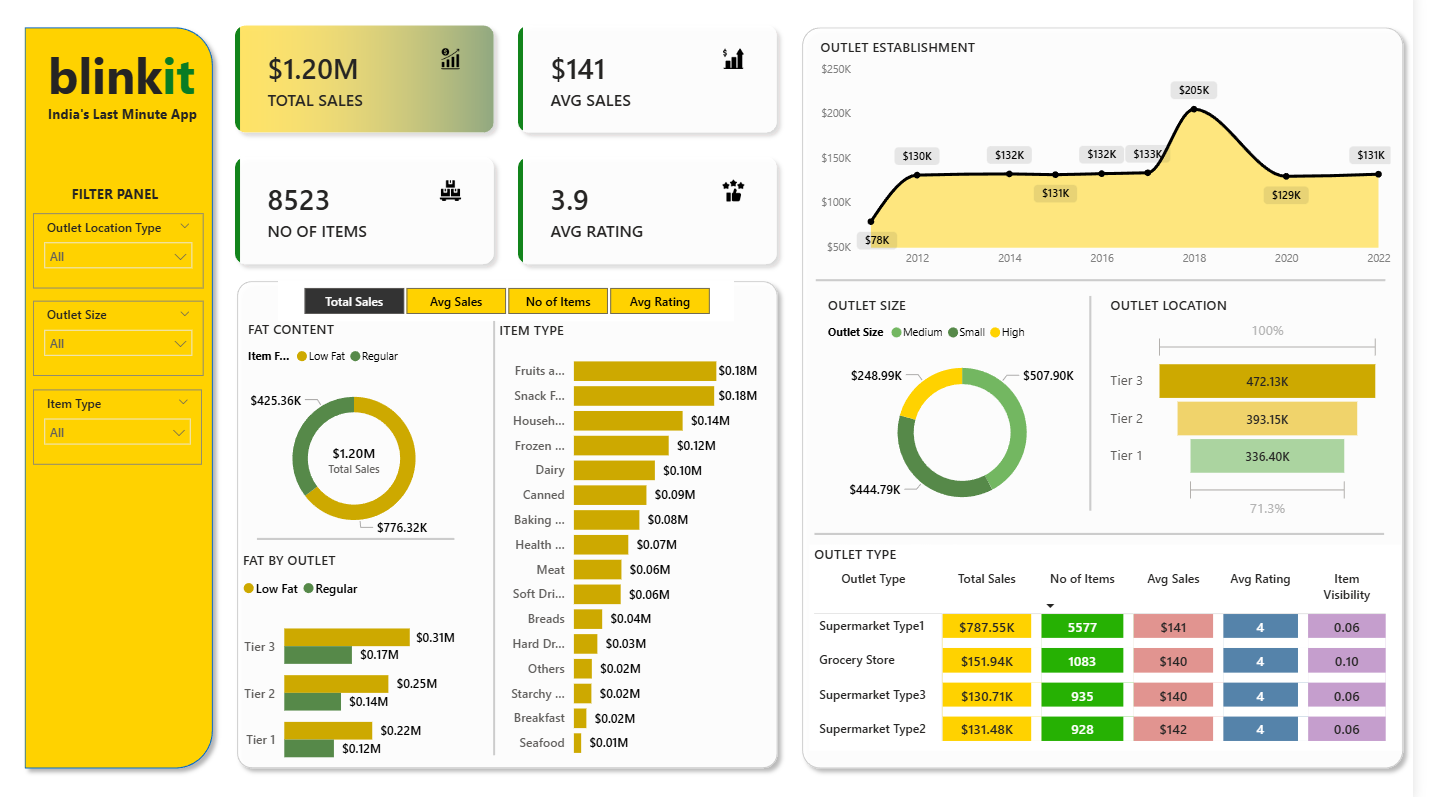

The dashboard page shown, as its layout file describes it:
{"tool":"powerbi","page":{"name":"Page 1","canvas":[1400,800],"ordinal":0},"visuals":[{"type":"shape","box":[17.1,25.7,204.3,751.4],"z":0},{"type":"textbox","box":[45,45,161.7,88.3],"z":1000},{"type":"textbox","box":[45,106.7,160,53.3],"z":2000},{"type":"cardVisual","fields":{"Data":["BlinkIT Grocery Data.Total Sales","BlinkIT Grocery Data.Avg Sales","BlinkIT Grocery Data.No of Items","BlinkIT Grocery Data.Avg Rating"]},"box":[217.1,15.7,570,270],"z":3000},{"type":"shape","box":[227.1,277.1,552.9,500],"z":4000},{"type":"donutChart","title":"FAT CONTENT","fields":{"Y":["BlinkIT Grocery Data.Total Sales"],"Category":["BlinkIT Grocery Data.Item Fat Content"]},"box":[242.9,324.3,220,230],"z":5000},{"type":"slicer","fields":{"Values":["Metrics.Metrics"]},"box":[277.1,285.7,451.4,40],"z":6000},{"type":"cardVisual","fields":{"Data":["BlinkIT Grocery Data.Total Sales"]},"box":[288.6,428.6,128.6,70],"z":7000},{"type":"clusteredBarChart","title":"FAT BY OUTLET","fields":{"Y":["BlinkIT Grocery Data.Total Sales"],"Category":["BlinkIT Grocery Data.Outlet Location Type"],"Series":["BlinkIT Grocery Data.Item Fat Content"]},"box":[237.1,552.9,220,230],"z":8000},{"type":"shape","box":[255.7,527.1,195.7,28.6],"z":9000},{"type":"shape","box":[478.9,325.6,24.4,430],"z":10000},{"type":"barChart","title":"ITEM TYPE","fields":{"Y":["BlinkIT Grocery Data.Total Sales"],"Category":["BlinkIT Grocery Data.Item Type"]},"box":[491.4,325.7,265.7,442.9],"z":11000},{"type":"shape","box":[787.1,25.7,612.9,751.4],"z":12000},{"type":"lineChart","title":"OUTLET ESTABLISHMENT","fields":{"Y":["BlinkIT Grocery Data.Total Sales"],"Category":["BlinkIT Grocery Data.Outlet Establishment Year"]},"box":[808.6,44.3,574.3,235.7],"z":13000},{"type":"shape","box":[808.6,271.4,564.3,28.6],"z":14000},{"type":"donutChart","title":"OUTLET SIZE","fields":{"Y":["BlinkIT Grocery Data.Total Sales"],"Category":["BlinkIT Grocery Data.Outlet Size"]},"box":[815.7,300,275.7,225.7],"z":15000},{"type":"shape","box":[1064.3,300,34.3,212.9],"z":16000},{"type":"funnel","title":"OUTLET LOCATION","fields":{"Category":["BlinkIT Grocery Data.Outlet Location Type"],"Y":["Sum(BlinkIT Grocery Data.Sales)"]},"box":[1095.7,300,277.1,225.7],"z":17000},{"type":"shape","box":[807.1,521.4,564.3,28.6],"z":18000},{"type":"pivotTable","title":"OUTLET TYPE","fields":{"Rows":["BlinkIT Grocery Data.Outlet Type"],"Values":["BlinkIT Grocery Data.Total Sales","BlinkIT Grocery Data.No of Items","BlinkIT Grocery Data.Avg Sales","BlinkIT Grocery Data.Avg Rating","Avg(BlinkIT Grocery Data.Item Visibility)"]},"box":[802.9,547.1,585.7,204.3],"z":19000},{"type":"slicer","fields":{"Values":["BlinkIT Grocery Data.Outlet Location Type"]},"box":[34.3,218.6,168.6,74.3],"z":20000},{"type":"slicer","fields":{"Values":["BlinkIT Grocery Data.Outlet Size"]},"box":[34.3,305.7,168.6,74.3],"z":21000},{"type":"slicer","fields":{"Values":["BlinkIT Grocery Data.Item Type"]},"box":[34.3,392.9,167.1,74.3],"z":22000},{"type":"textbox","box":[67.7,185.4,100,33.1],"z":22001}]}

Visuals, with their boxes on the page's 1400x800 design canvas (x1, y1, x2, y2). These are canvas units, not pixel positions in the 1437x797 screenshot, which may show the page scaled, cropped or inside an application window:
shape: bbox(17, 26, 221, 777)
textbox: bbox(45, 45, 207, 133)
textbox: bbox(45, 107, 205, 160)
cardVisual - BlinkIT Grocery Data.Total Sales x BlinkIT Grocery Data.Avg Sales: bbox(217, 16, 787, 286)
shape: bbox(227, 277, 780, 777)
"FAT CONTENT" donutChart: bbox(243, 324, 463, 554)
slicer - Metrics.Metrics: bbox(277, 286, 728, 326)
cardVisual - BlinkIT Grocery Data.Total Sales: bbox(289, 429, 417, 499)
"FAT BY OUTLET" clusteredBarChart: bbox(237, 553, 457, 783)
shape: bbox(256, 527, 451, 556)
shape: bbox(479, 326, 503, 756)
"ITEM TYPE" barChart: bbox(491, 326, 757, 769)
shape: bbox(787, 26, 1400, 777)
"OUTLET ESTABLISHMENT" lineChart: bbox(809, 44, 1383, 280)
shape: bbox(809, 271, 1373, 300)
"OUTLET SIZE" donutChart: bbox(816, 300, 1091, 526)
shape: bbox(1064, 300, 1099, 513)
"OUTLET LOCATION" funnel: bbox(1096, 300, 1373, 526)
shape: bbox(807, 521, 1371, 550)
"OUTLET TYPE" pivotTable: bbox(803, 547, 1389, 751)
slicer - BlinkIT Grocery Data.Outlet Location Type: bbox(34, 219, 203, 293)
slicer - BlinkIT Grocery Data.Outlet Size: bbox(34, 306, 203, 380)
slicer - BlinkIT Grocery Data.Item Type: bbox(34, 393, 201, 467)
textbox: bbox(68, 185, 168, 218)
